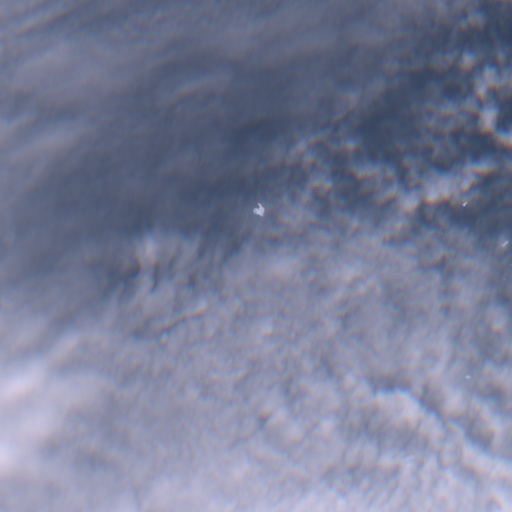Iceberg: (253, 203, 264, 216), (501, 241, 508, 246), (462, 202, 466, 206), (465, 375, 470, 378)
